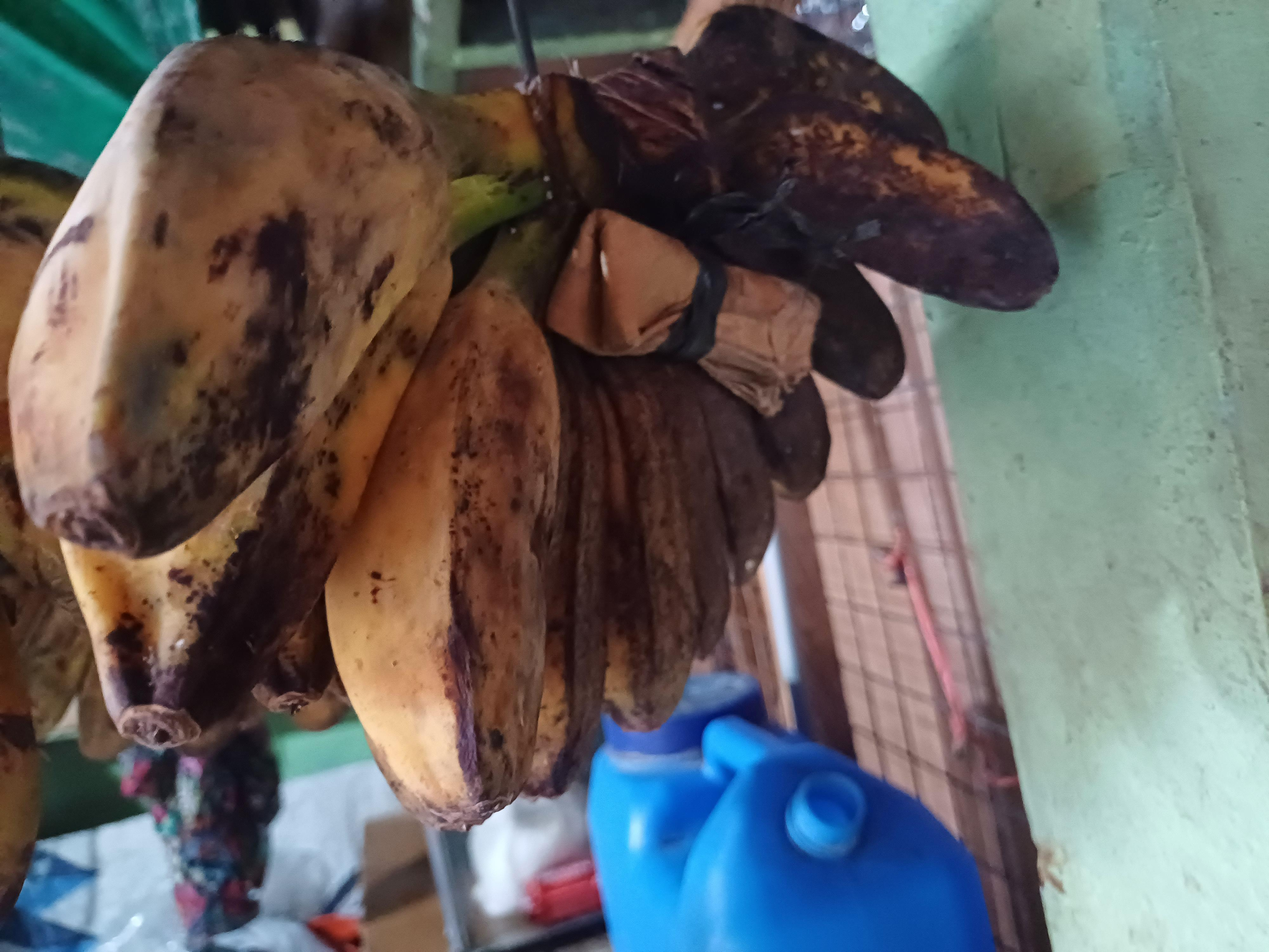underripe: (13, 6, 1059, 830)
